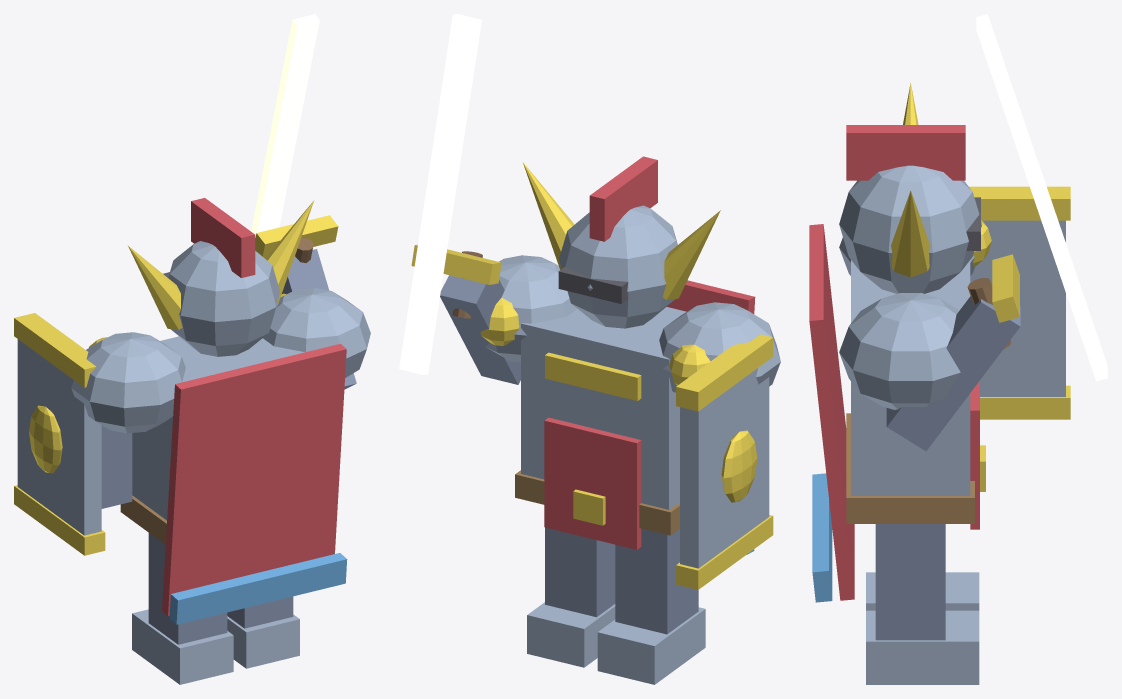
The model's file is knight.glb.
3 views of the same model, side by side, from view 1: azimuth 30°, elevation 25°; view 2: azimuth 150°, elevation 25°; view 3: azimuth 270°, elevation 25° (orthographic). The views are drawn at different scales.
Visible parts, largest first — view 1: knight; view 2: knight; view 3: knight.
Boxes of the visible parts, left/top/right/bottom form: knight: left=14, top=14, right=370, bottom=684; knight: left=399, top=14, right=780, bottom=684; knight: left=809, top=14, right=1107, bottom=684.
Size of the model in its own units: 1.73 by 3.22 by 1.25.
